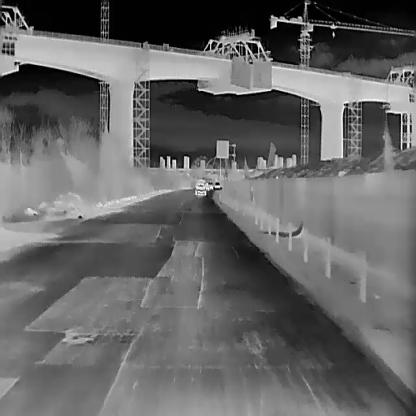car: (195, 179, 205, 195), (204, 182, 212, 190), (214, 181, 220, 188)
